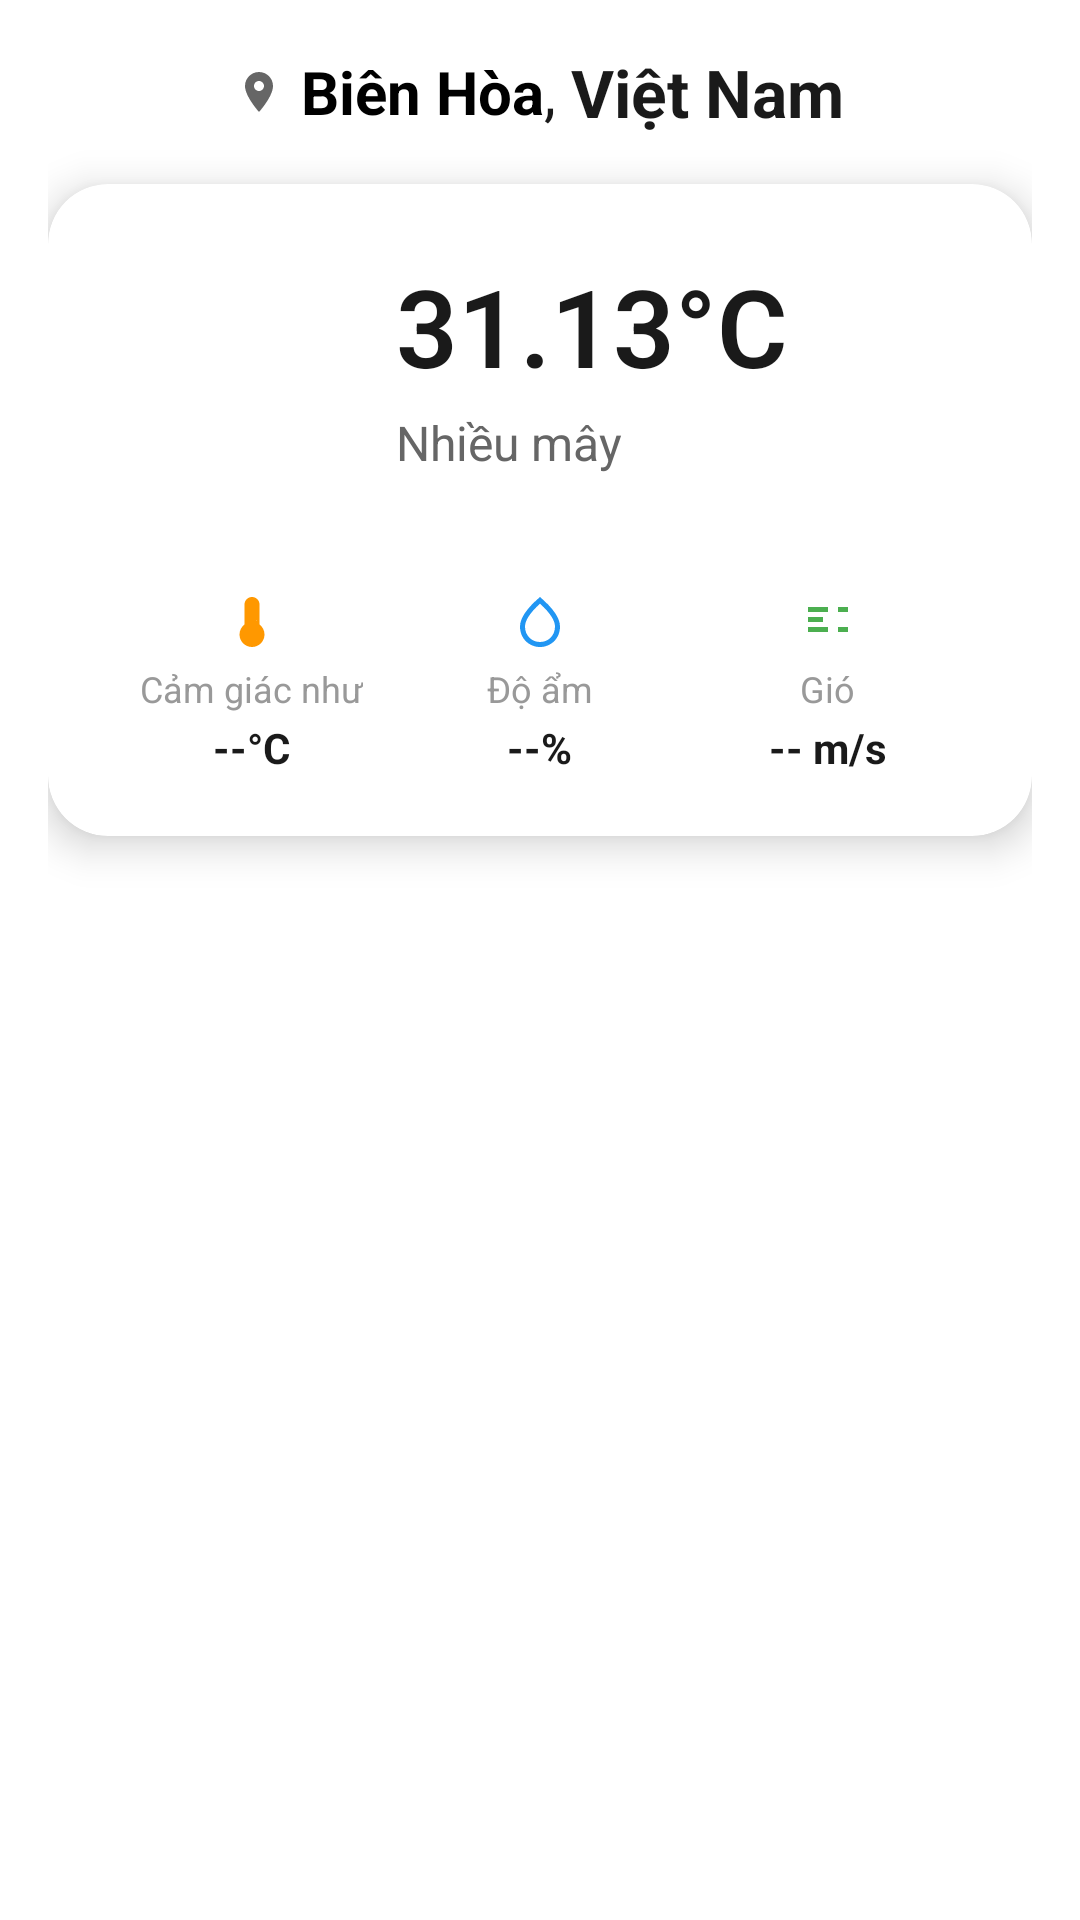

Named icons in this screenshot (1080 × 1920) and their bounding boxes, Rect(x1, y1, x2, y2):
Biểu tượng vị trí: Rect(245, 72, 273, 112)
